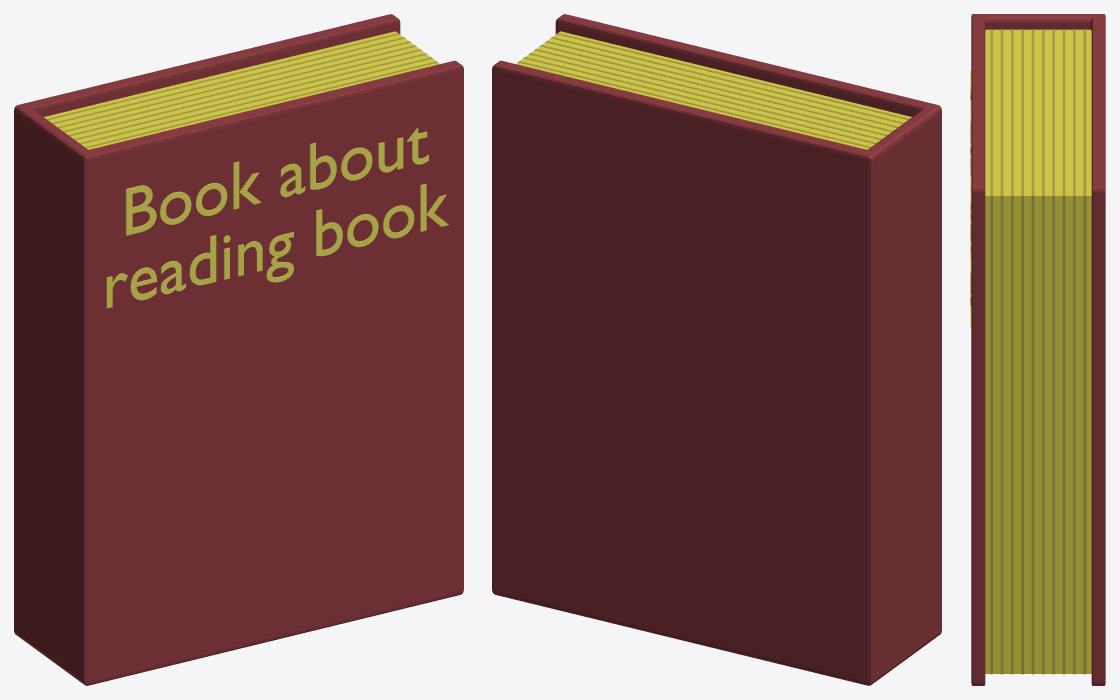
The model's file is book.fbx.
3 views of the same model, side by side, from view 1: azimuth 30°, elevation 25°; view 2: azimuth 150°, elevation 25°; view 3: azimuth 270°, elevation 25° (orthographic). The views are drawn at different scales.
Parts seen in each view (by area): view 1: Cube, Cube.001, Text, Cube.002; view 2: Cube, Cube.001, Cube.002; view 3: Cube.001, Cube.002, Cube, Text.
Part boxes in pixels (box(x1,y1,x2,y2)): Cube: box(14, 14, 463, 685); Cube.001: box(44, 31, 439, 149); Text: box(106, 127, 448, 308); Cube.002: box(46, 33, 438, 148); Cube: box(492, 14, 941, 685); Cube.001: box(516, 31, 911, 149); Cube.002: box(518, 33, 909, 147); Cube.001: box(985, 29, 1091, 673); Cube.002: box(990, 29, 1086, 674); Cube: box(971, 14, 1105, 685); Text: box(970, 70, 971, 327).
Size of the model in its own units: 400 by 533 by 131.
